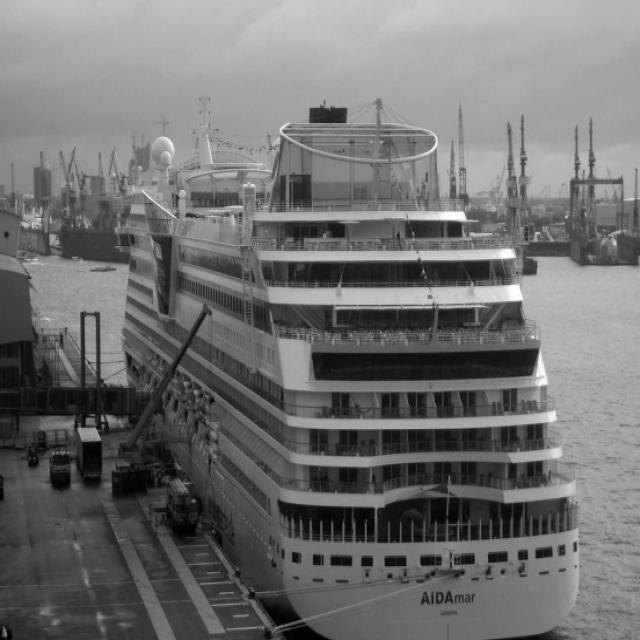cruises: (122, 105, 585, 640)
